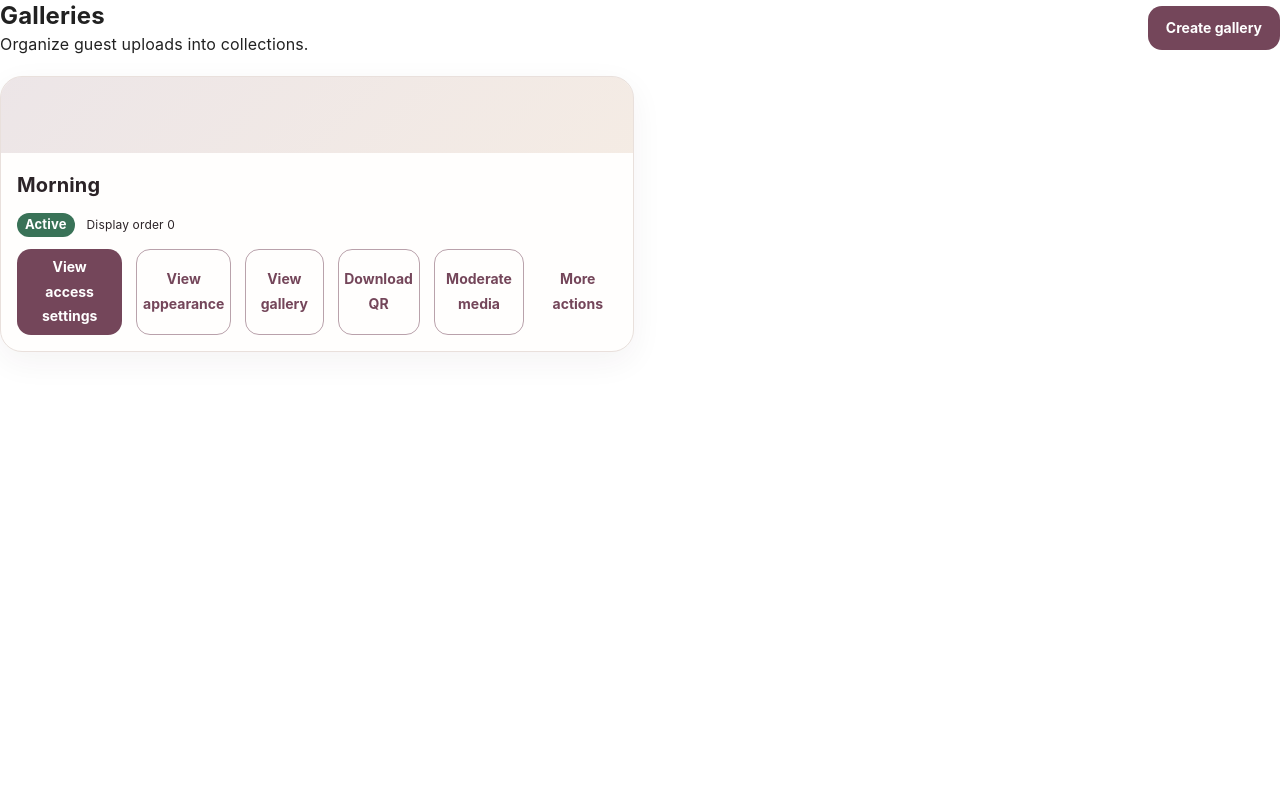
GalleryManager › shows settings to a manager without mutation controls
Expected: the heading "Morning" is shown, [17,173,100,197]
What coordinates should you click on to do the following:
click the button "View access settings"
I would click on:
 (70, 292)
Its box is [17,249,122,334].
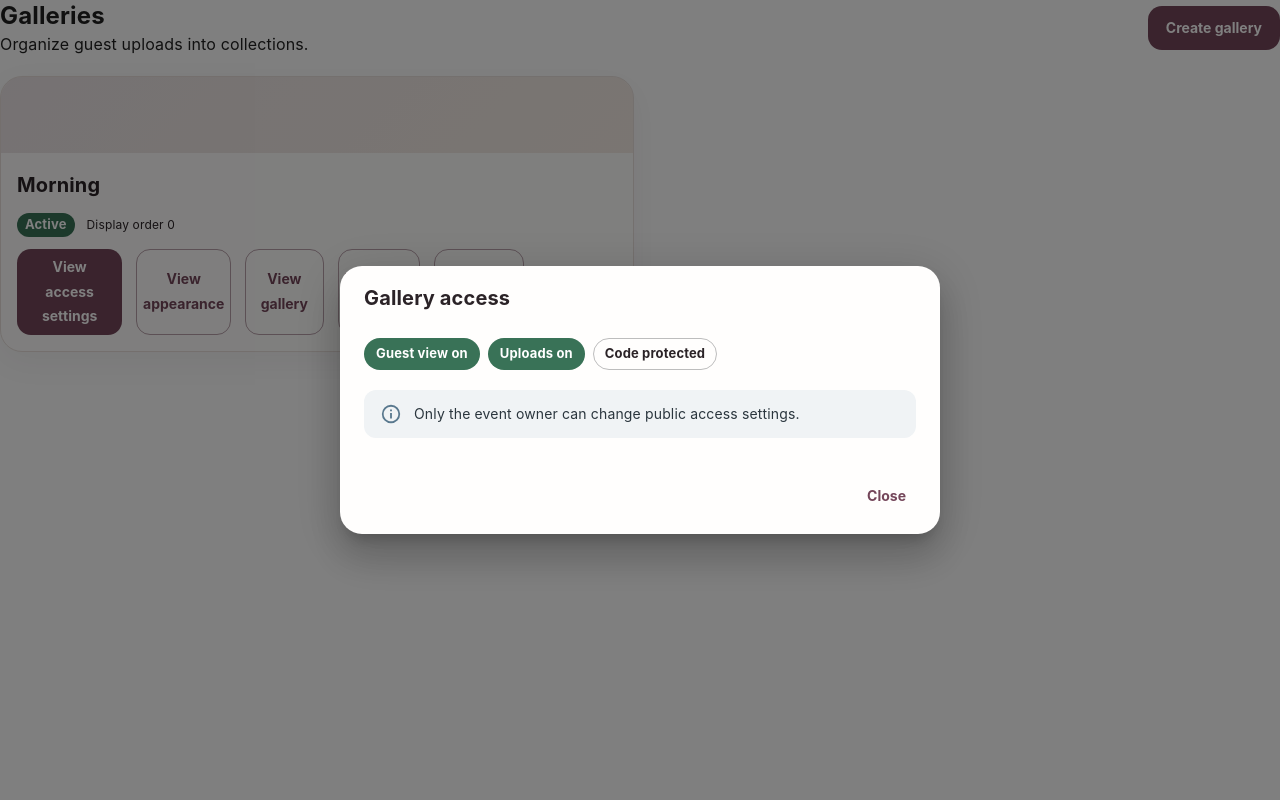
Expected: the text "Guest view on" is shown, [376,345,468,361]
Expected: the text "Only the event owner can change public access settings." is shown, [414,405,800,422]
